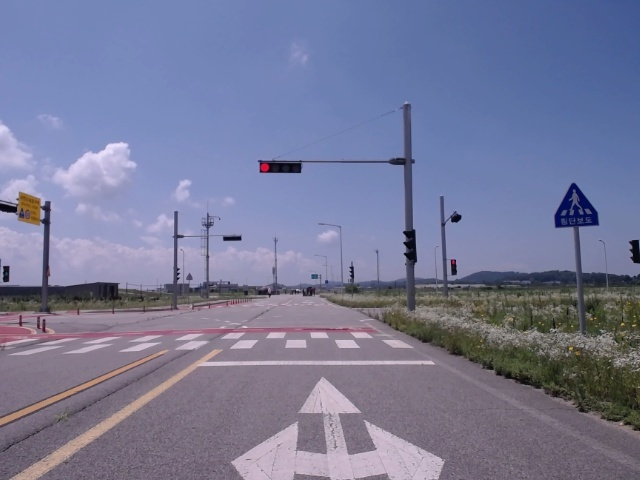red_4: (260, 163, 301, 173)
